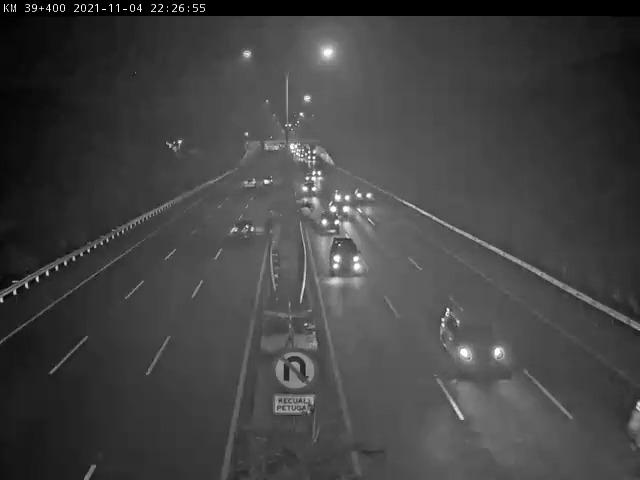car: (438, 306, 510, 376), (326, 240, 361, 273), (228, 219, 259, 241), (319, 209, 342, 235)
